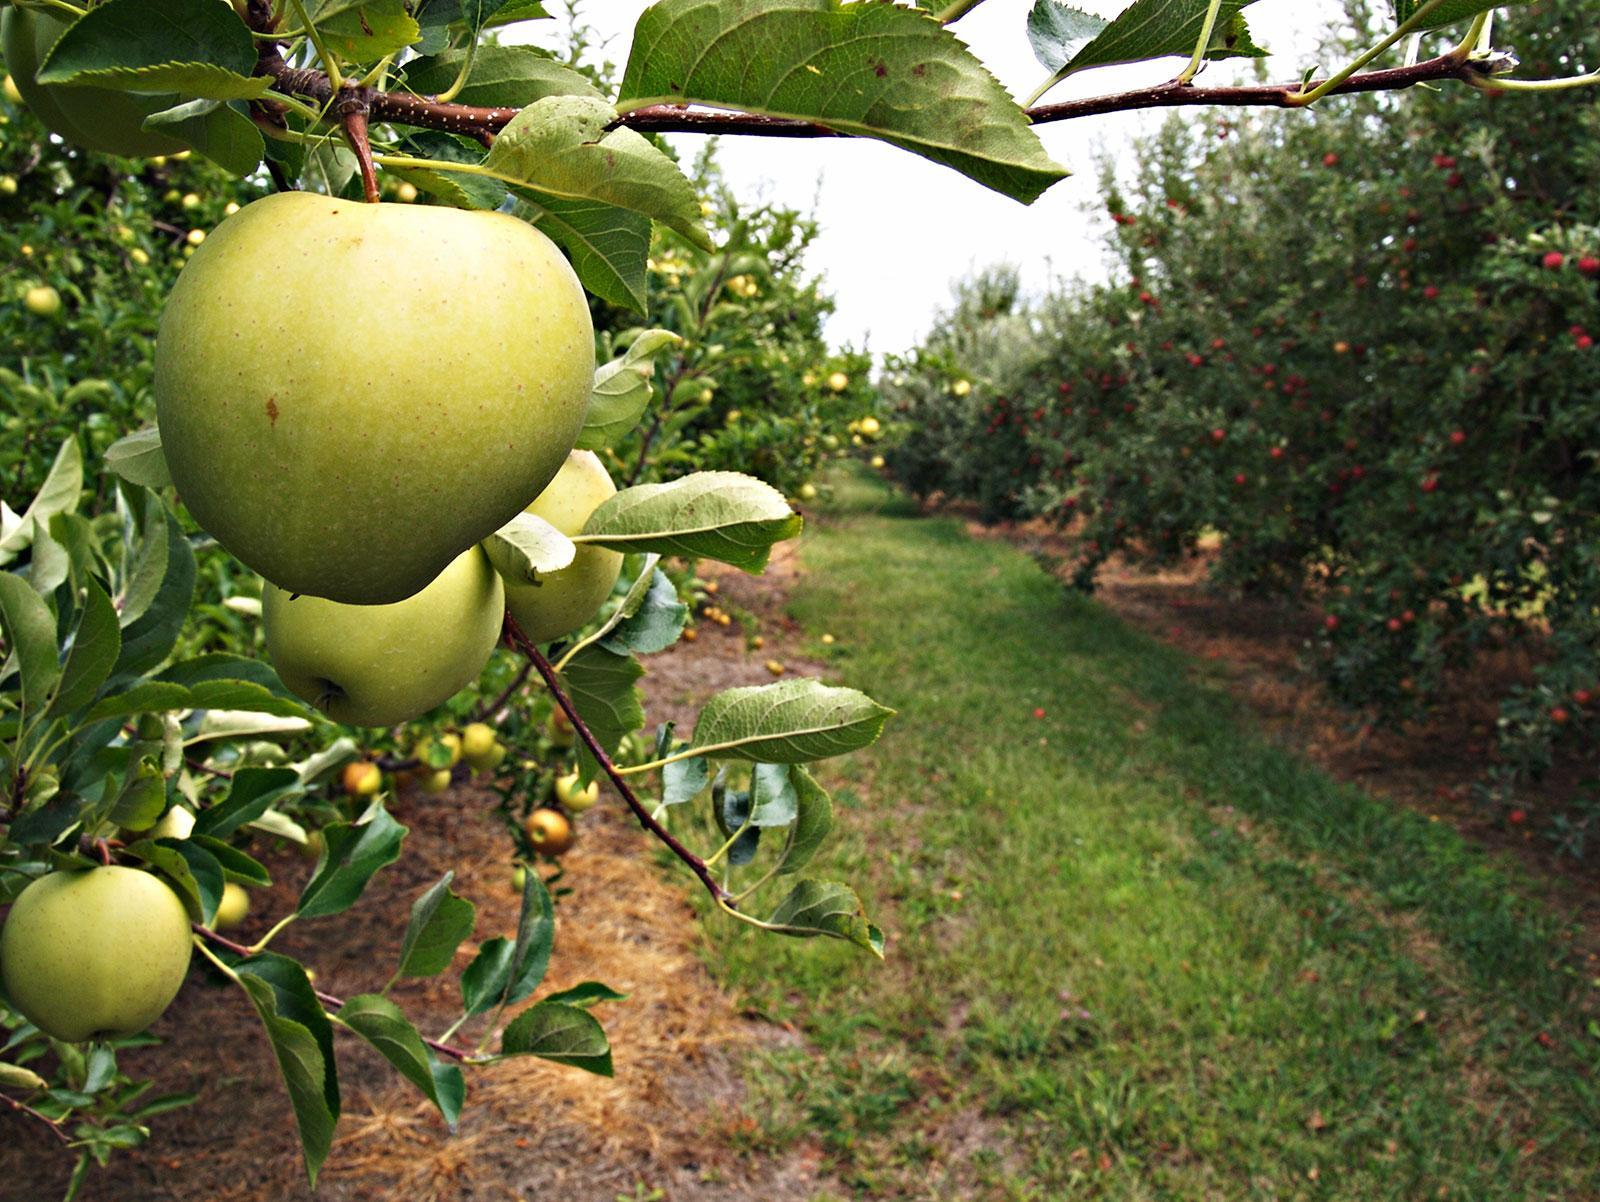apple: (152, 187, 596, 645), (263, 543, 516, 727), (3, 859, 197, 1043), (485, 448, 623, 644)
